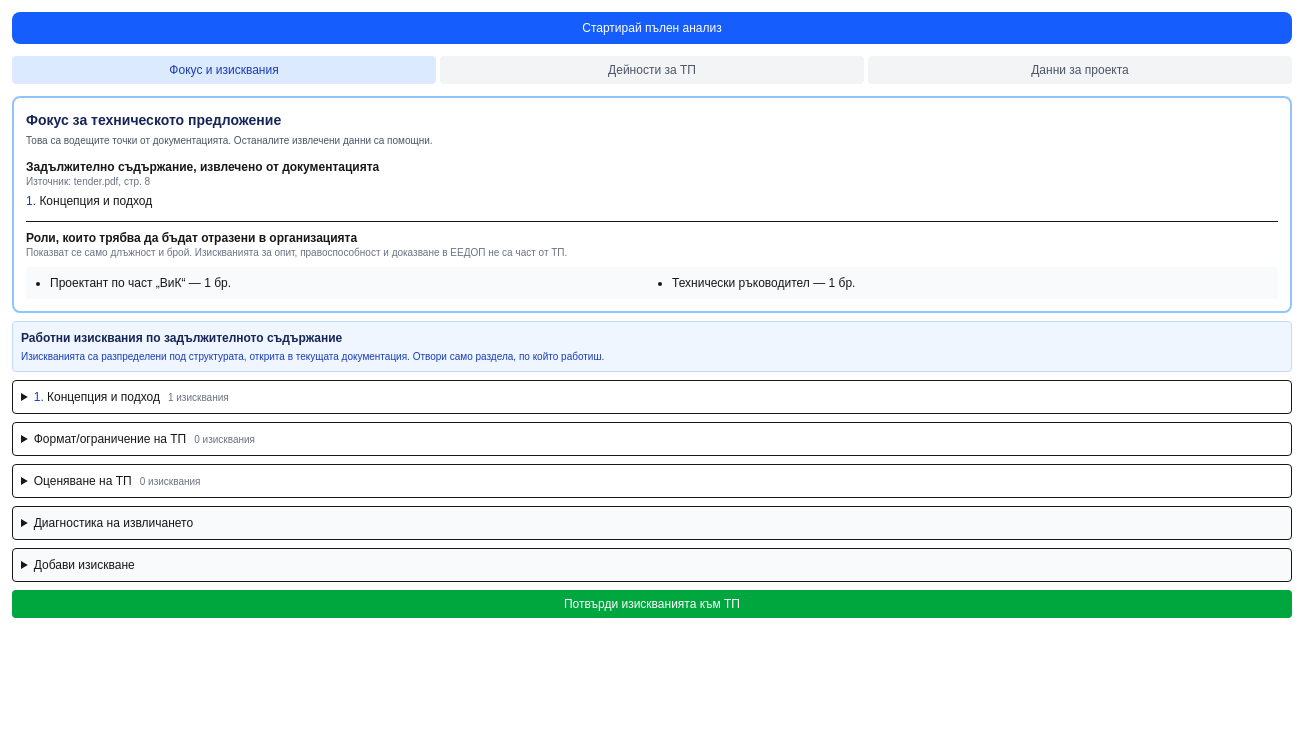
Test case: UnderstandingPanel › keeps an unsaved draft of B after saving A and blocks confirmation (K-12)
Click the tab "Дейности за ТП": coordinates (652, 70) [440,56,864,84]
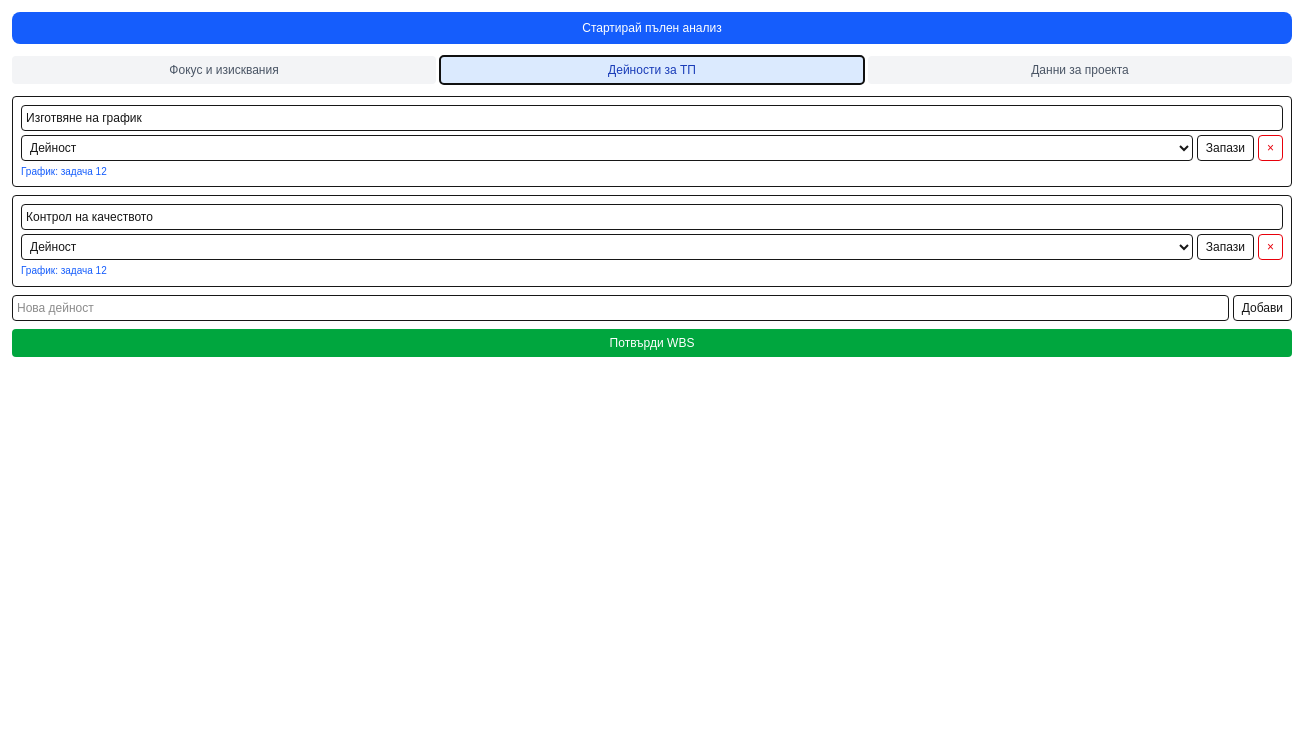
Replace the text in the 1st field named "Наименование на дейност" with "График A": coordinates (652, 118) [21,105,1283,131]
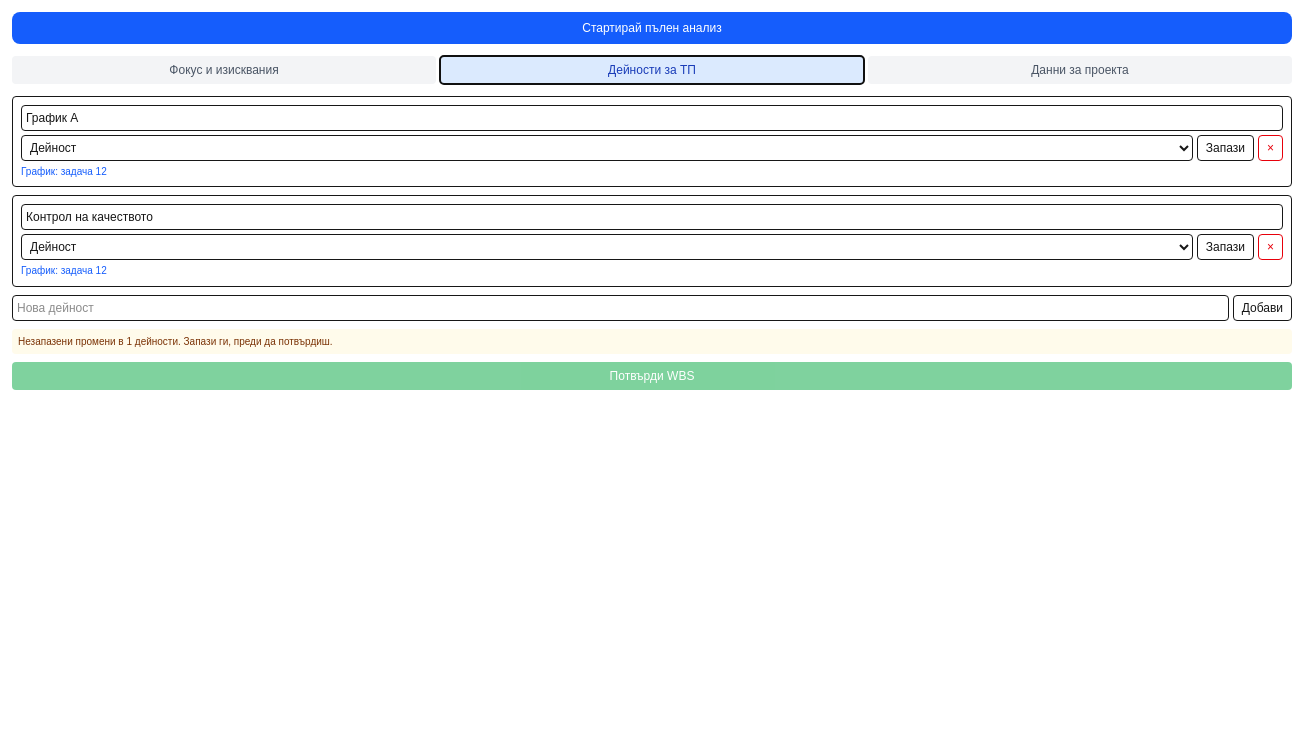
Replace the text in the 2nd field named "Наименование на дейност" with "Контрол B": coordinates (652, 217) [21,204,1283,230]
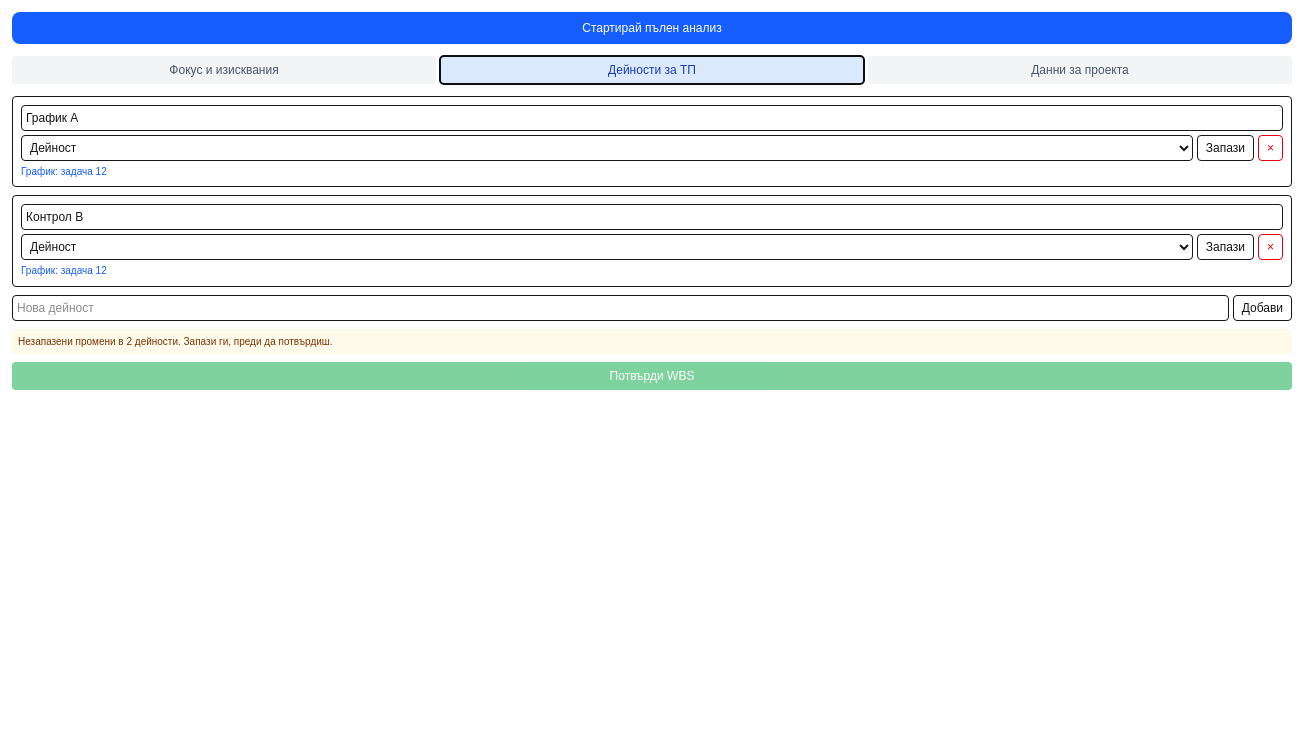
Expected: the button with test id "confirm-wbs" is disabled, [12,362,1292,390]
Click the 1st button "Запази": coordinates (1225, 148) [1197,135,1254,161]
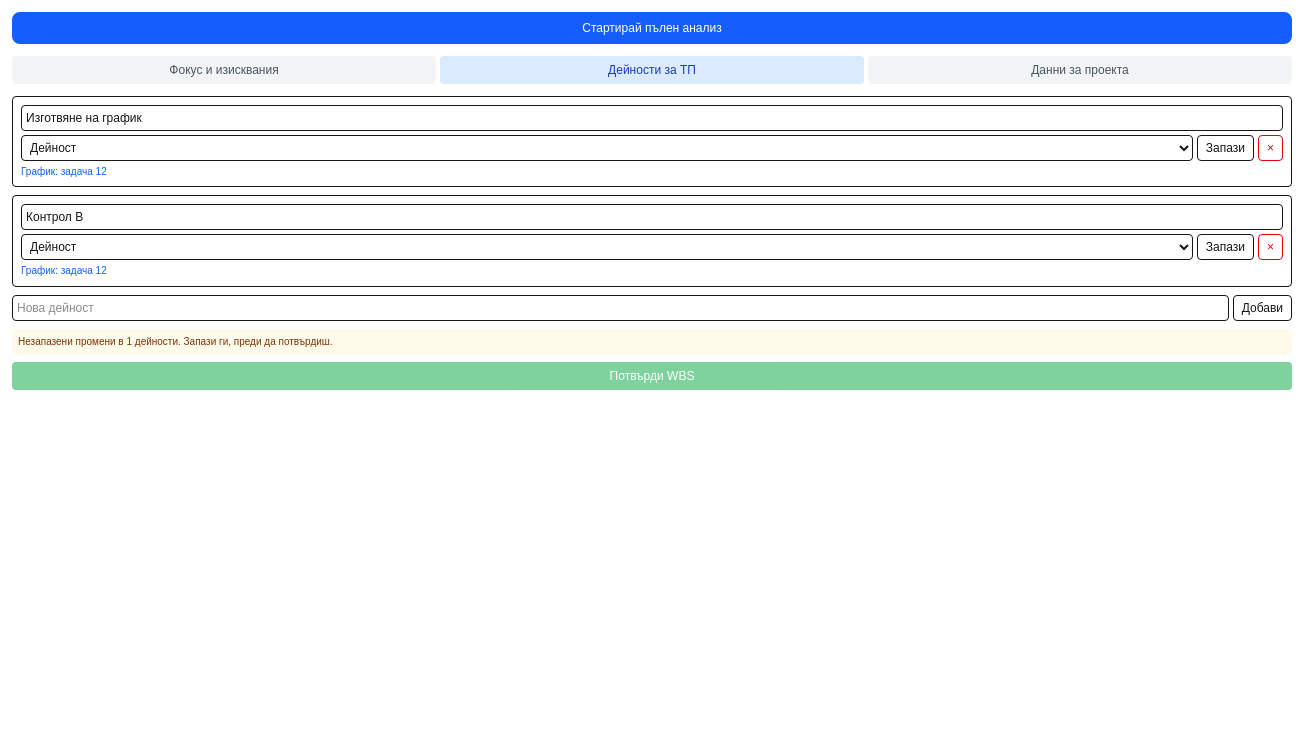
Expected: the button with test id "confirm-wbs" is disabled, [12,362,1292,390]
Expected: the text with test id "wbs-unsaved" shows "1 дейности", [12,329,1292,354]
